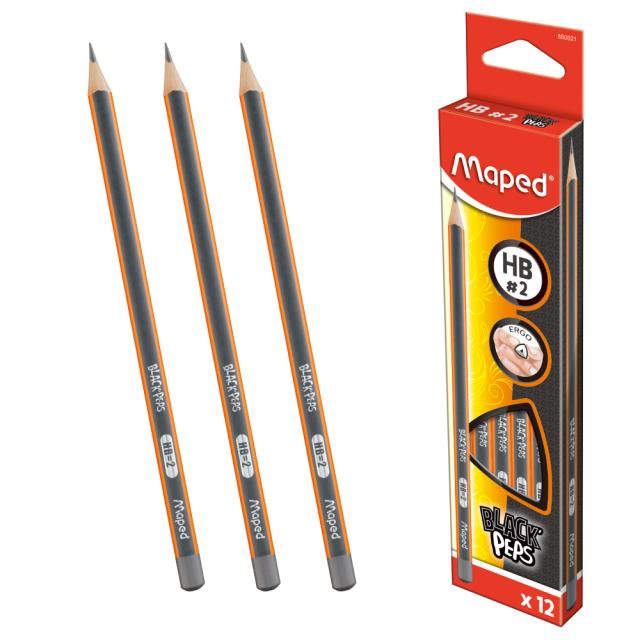pencil: (155, 32, 292, 606), (81, 29, 216, 607), (235, 28, 370, 605)
